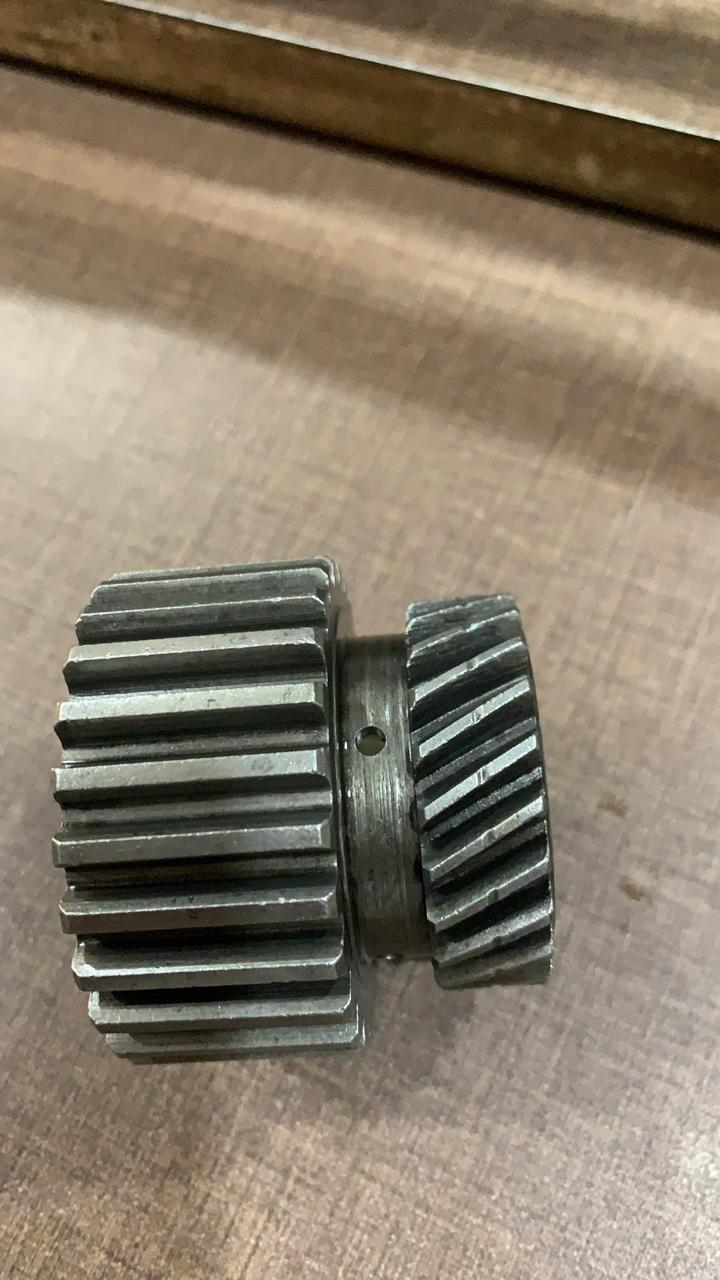engine gear ape: (22, 478, 626, 1106)
